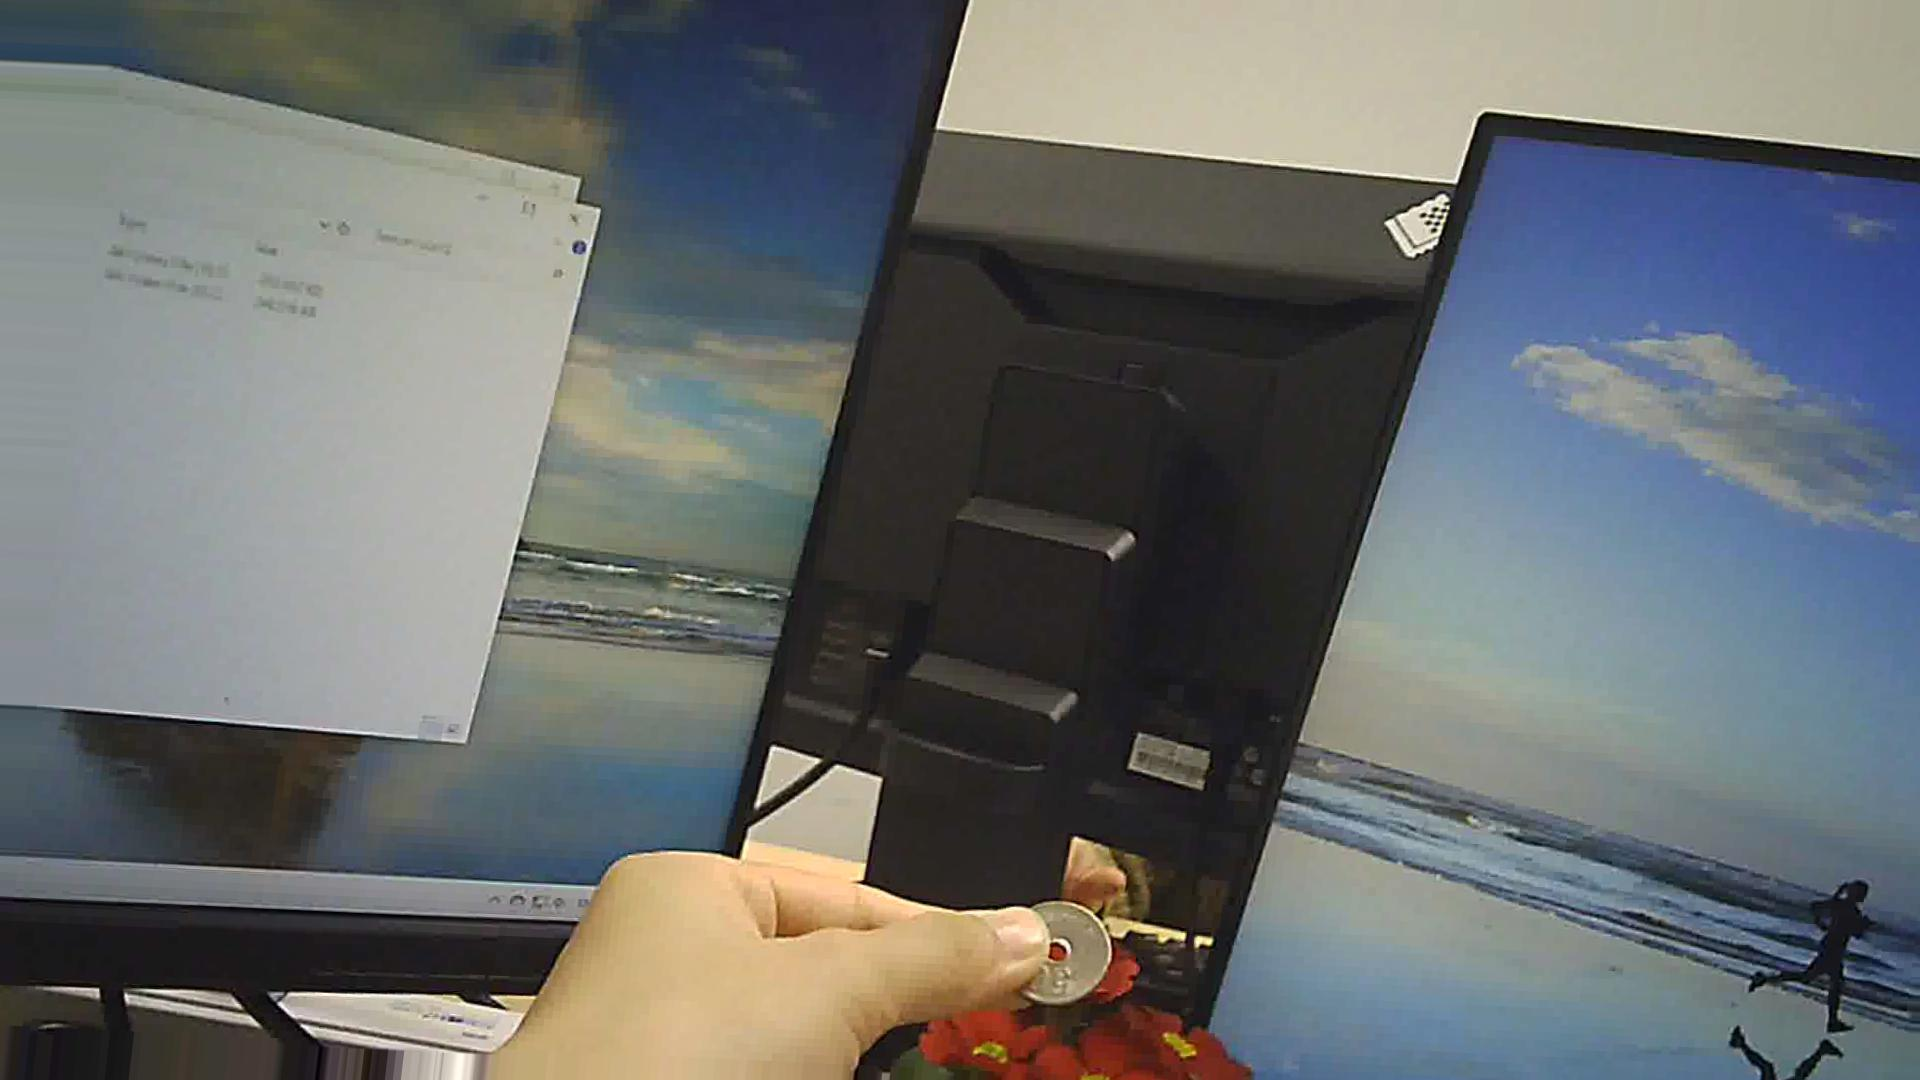50 Yen: (1000, 890, 1106, 1011)
